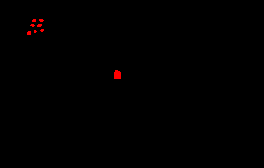Target: (114, 70, 121, 79), (27, 31, 31, 35), (39, 19, 44, 22), (30, 24, 35, 27), (37, 24, 42, 27), (32, 19, 36, 22), (40, 29, 44, 32), (34, 30, 37, 33)
